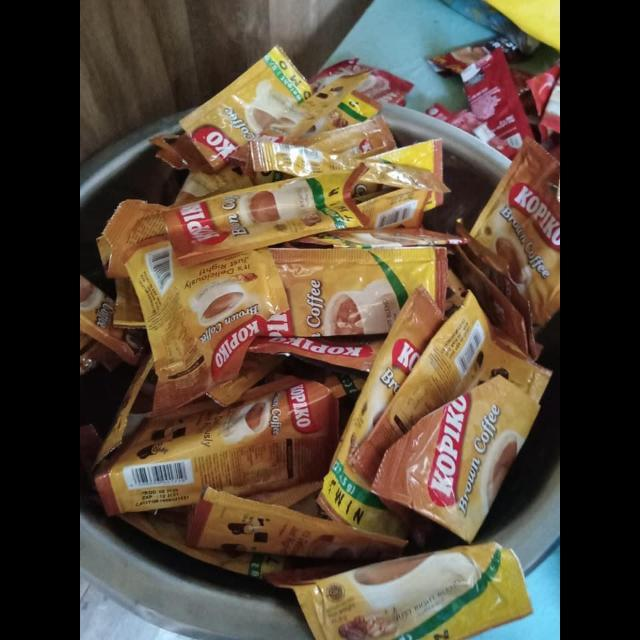wrapper: (350, 291, 553, 487), (317, 286, 446, 549), (95, 379, 339, 517), (123, 240, 290, 415), (371, 375, 540, 545), (151, 47, 367, 174), (264, 542, 534, 640), (164, 163, 368, 267), (470, 140, 560, 327), (186, 487, 409, 562), (268, 247, 448, 337), (461, 47, 534, 147), (80, 274, 145, 363)
